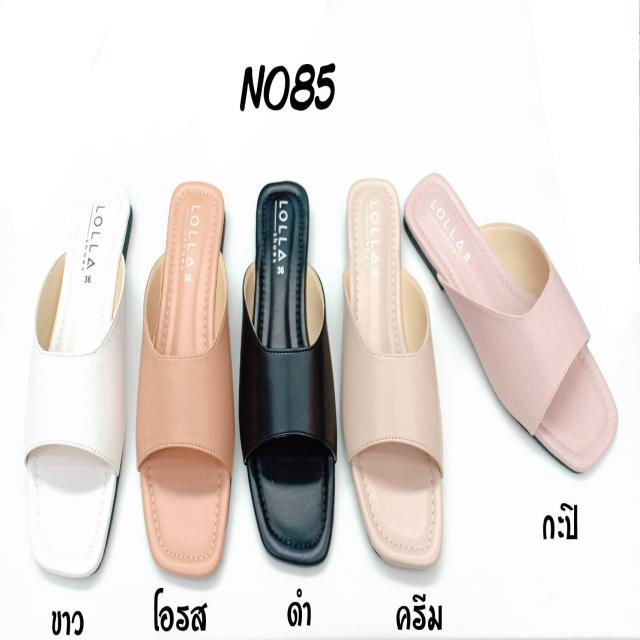black: (246, 178, 335, 566)
cream: (345, 179, 445, 562)
kapi: (406, 168, 617, 478)
orot: (138, 180, 233, 572)
white: (30, 179, 125, 580)
